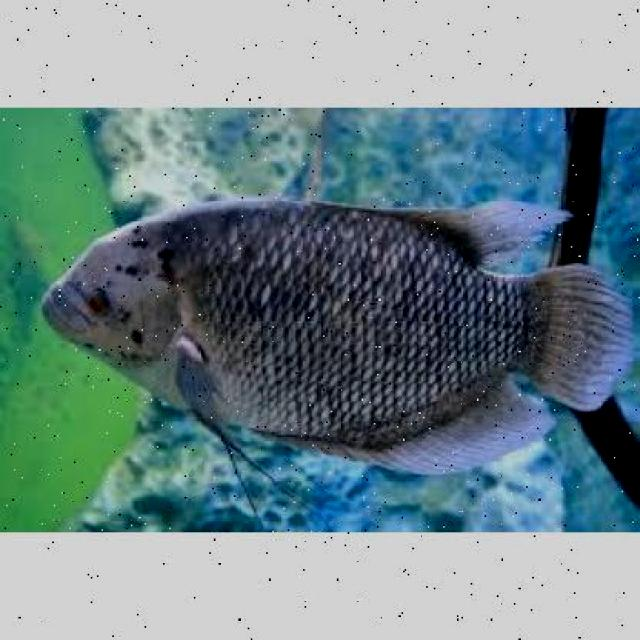gurame: (42, 194, 632, 476)
